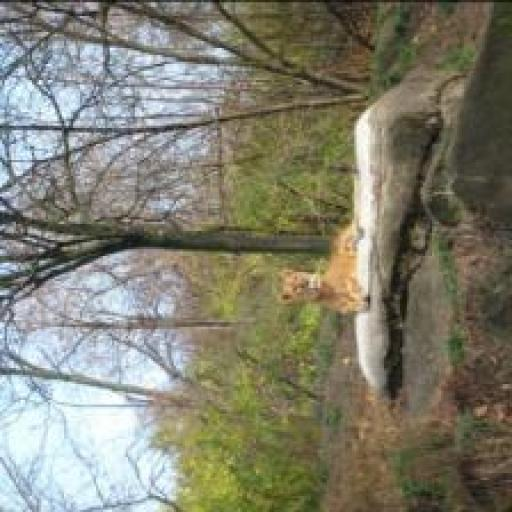lion: (270, 167, 372, 326)
